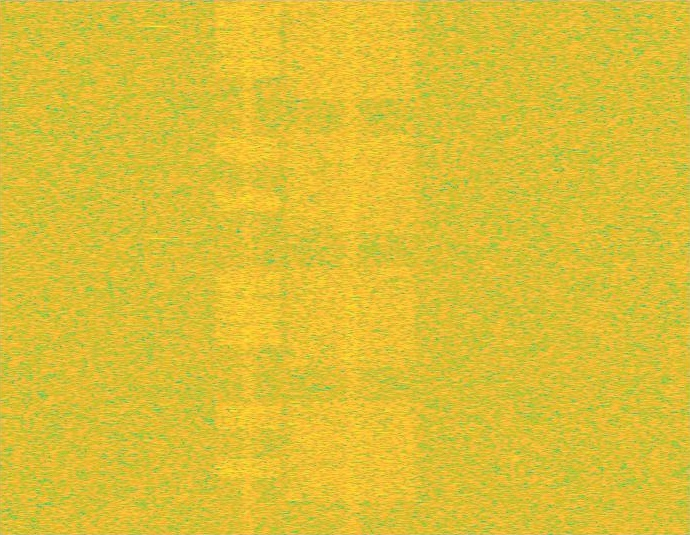5G: (282, 0, 420, 534)
DSSS: (342, 0, 361, 534), (240, 0, 256, 534)
LTE: (213, 0, 282, 534)
Radar: (151, 0, 165, 534)
